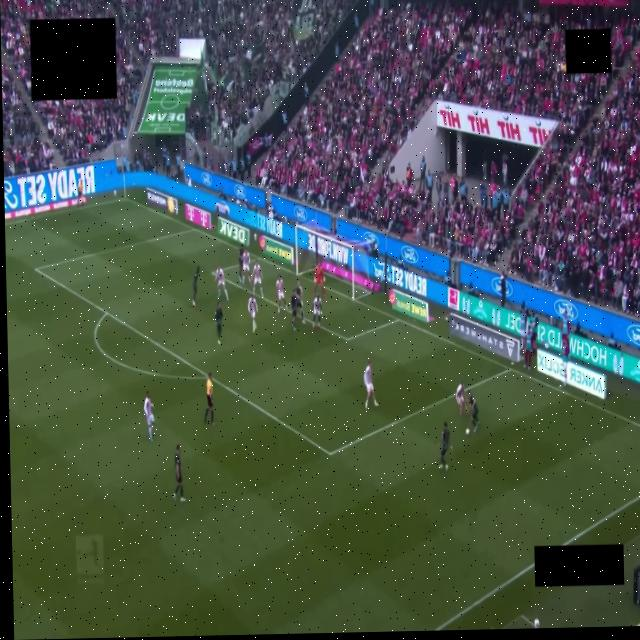ball: (465, 428, 470, 435)
player: (172, 444, 184, 502), (363, 361, 377, 409), (439, 422, 450, 470), (143, 391, 153, 441), (312, 264, 326, 298), (250, 261, 263, 297), (455, 383, 468, 417), (214, 267, 227, 300), (275, 274, 286, 313), (468, 391, 478, 432), (294, 283, 304, 323), (191, 265, 200, 307), (248, 292, 256, 332), (312, 296, 321, 330), (215, 302, 222, 344), (290, 290, 297, 330), (238, 247, 244, 284), (243, 251, 249, 278)
referee: (203, 373, 213, 425)
